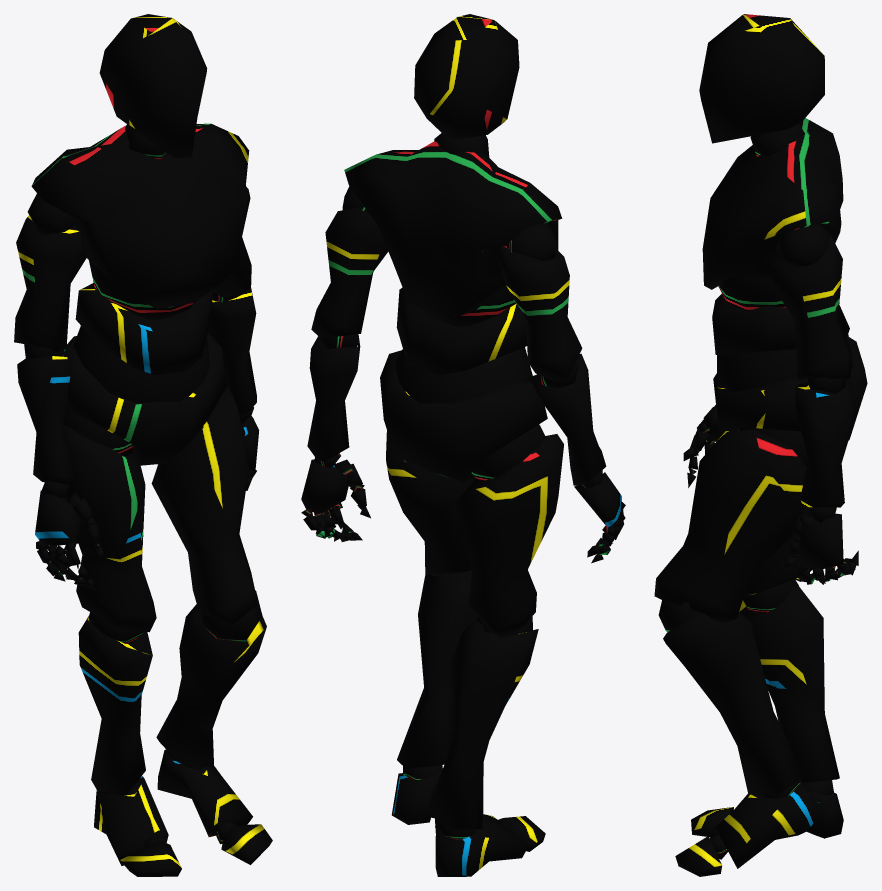
Rendered from y-bot-origin_000014.obj.
3 renders of one model, left to right at view 1: azimuth 30°, elevation 25°; view 2: azimuth 150°, elevation 25°; view 3: azimuth 270°, elevation 25°, orthographic.
Visible parts, largest first — view 1: Alpha_Surface_Alpha_SurfaceMesh, Alpha_Joints_Alpha_JointsMesh; view 2: Alpha_Surface_Alpha_SurfaceMesh, Alpha_Joints_Alpha_JointsMesh; view 3: Alpha_Surface_Alpha_SurfaceMesh, Alpha_Joints_Alpha_JointsMesh.
Boxes of the visible parts, x1,y1,x2,y2 form: Alpha_Surface_Alpha_SurfaceMesh: [14, 14, 272, 876]; Alpha_Joints_Alpha_JointsMesh: [24, 124, 262, 846]; Alpha_Surface_Alpha_SurfaceMesh: [301, 14, 623, 876]; Alpha_Joints_Alpha_JointsMesh: [301, 133, 625, 839]; Alpha_Surface_Alpha_SurfaceMesh: [654, 14, 867, 876]; Alpha_Joints_Alpha_JointsMesh: [658, 124, 855, 859].
Bounding box in the file's own units: 0.5939 × 1.79 × 0.4183.
